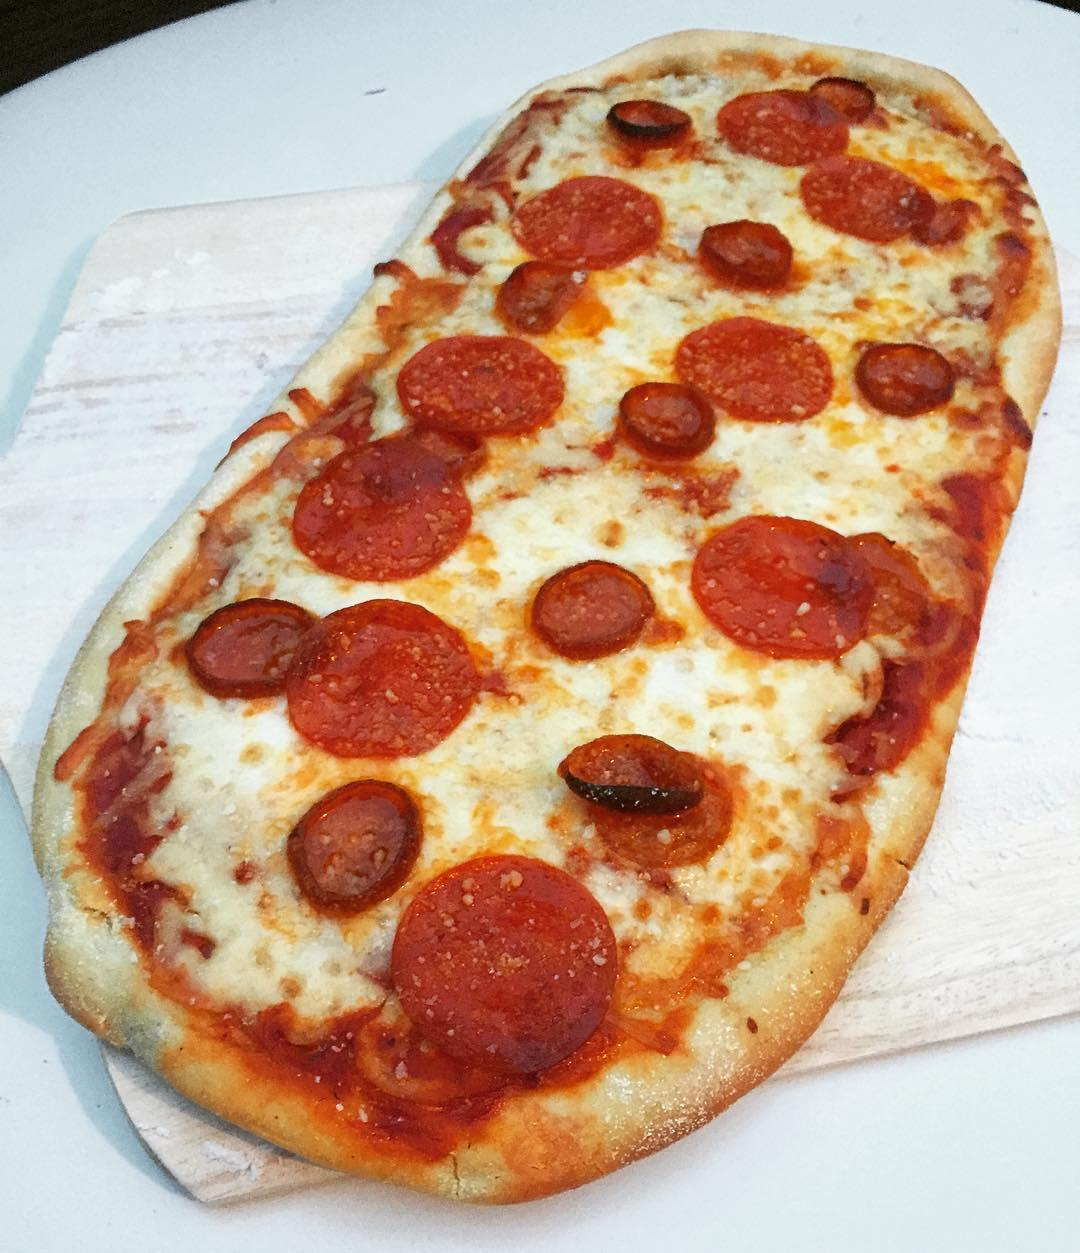Pepperoni: (389, 847, 626, 1081), (282, 585, 493, 768), (687, 508, 876, 663), (294, 436, 476, 583), (391, 322, 571, 445), (285, 770, 424, 926), (668, 316, 839, 433), (585, 744, 735, 872), (510, 167, 665, 274), (783, 147, 937, 248), (836, 326, 976, 436), (524, 555, 660, 663), (183, 595, 326, 696), (704, 79, 862, 170), (552, 727, 704, 818), (832, 525, 933, 645), (602, 374, 719, 471), (690, 211, 798, 295), (490, 250, 590, 336), (906, 182, 991, 247), (593, 89, 691, 145), (806, 59, 884, 127)
Pizza: (26, 28, 1064, 1214)
